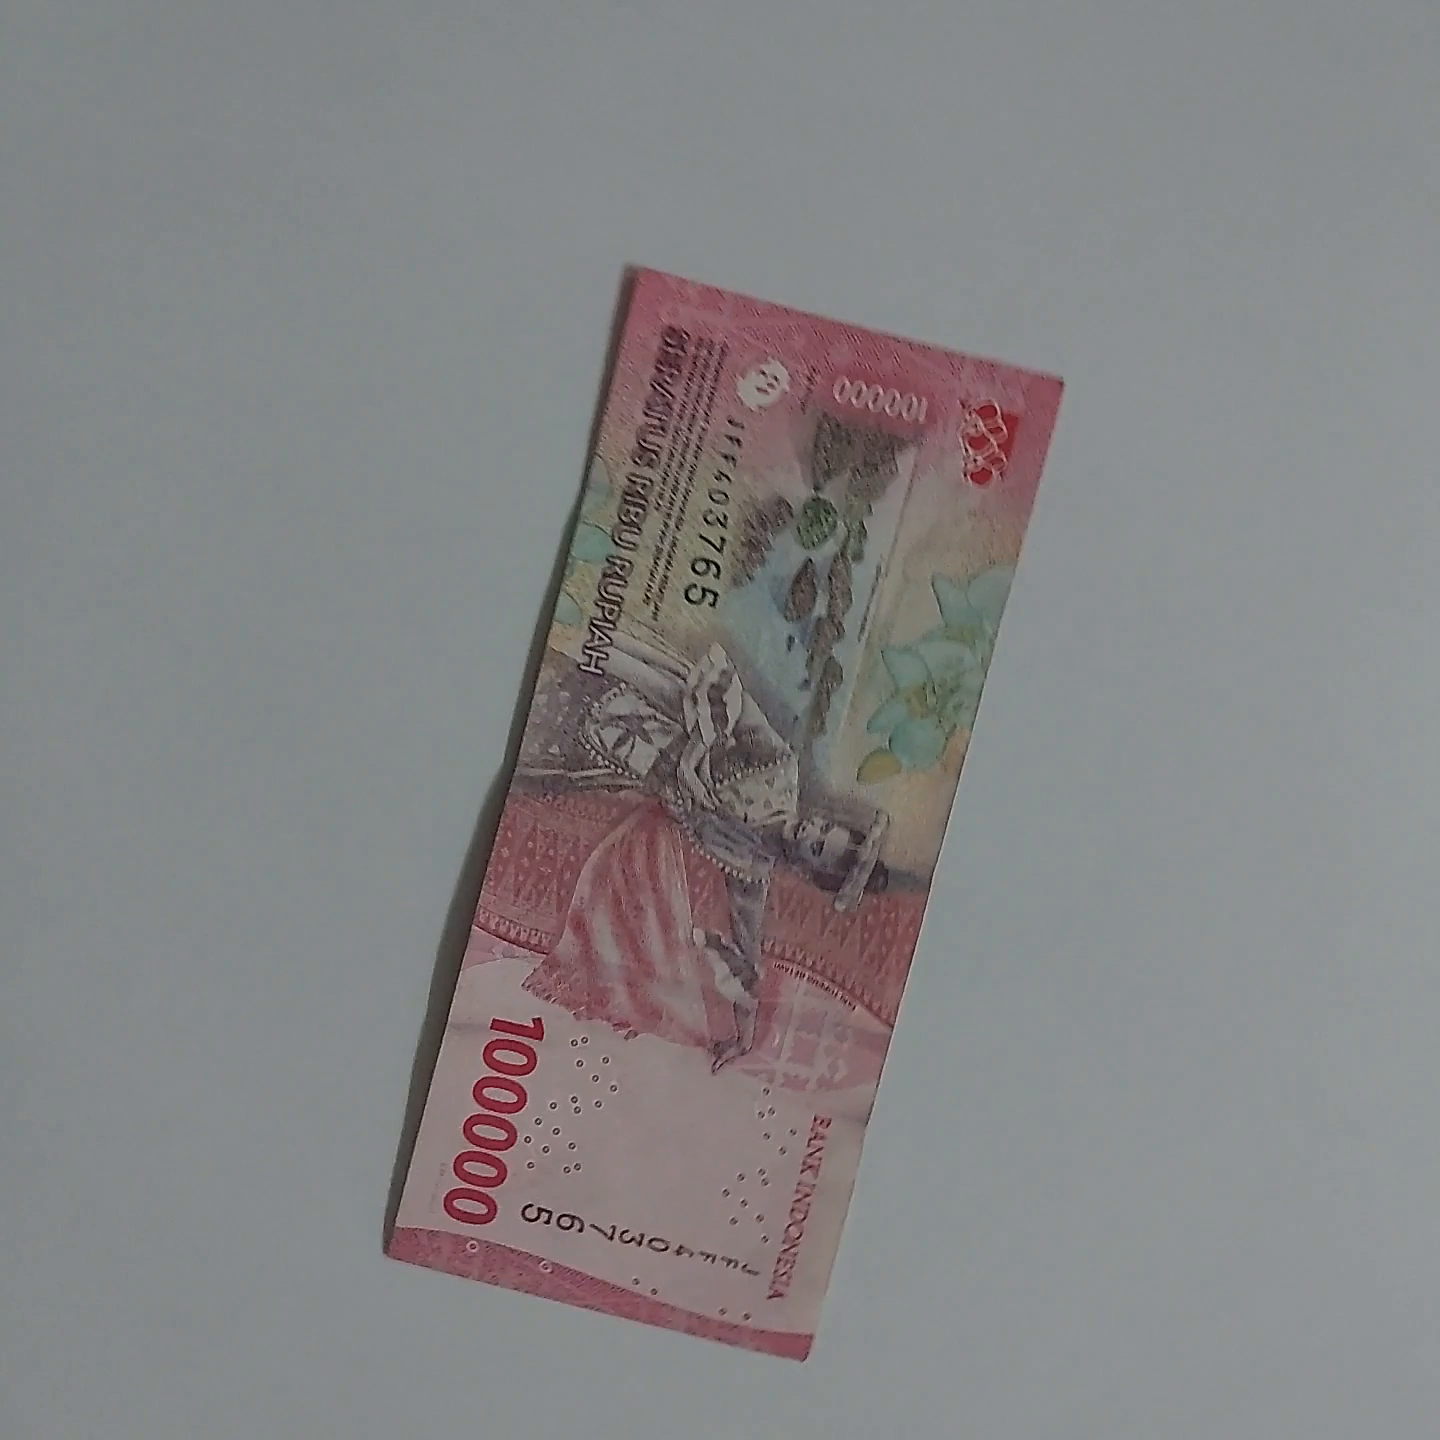100k: (604, 262, 1063, 1304)
